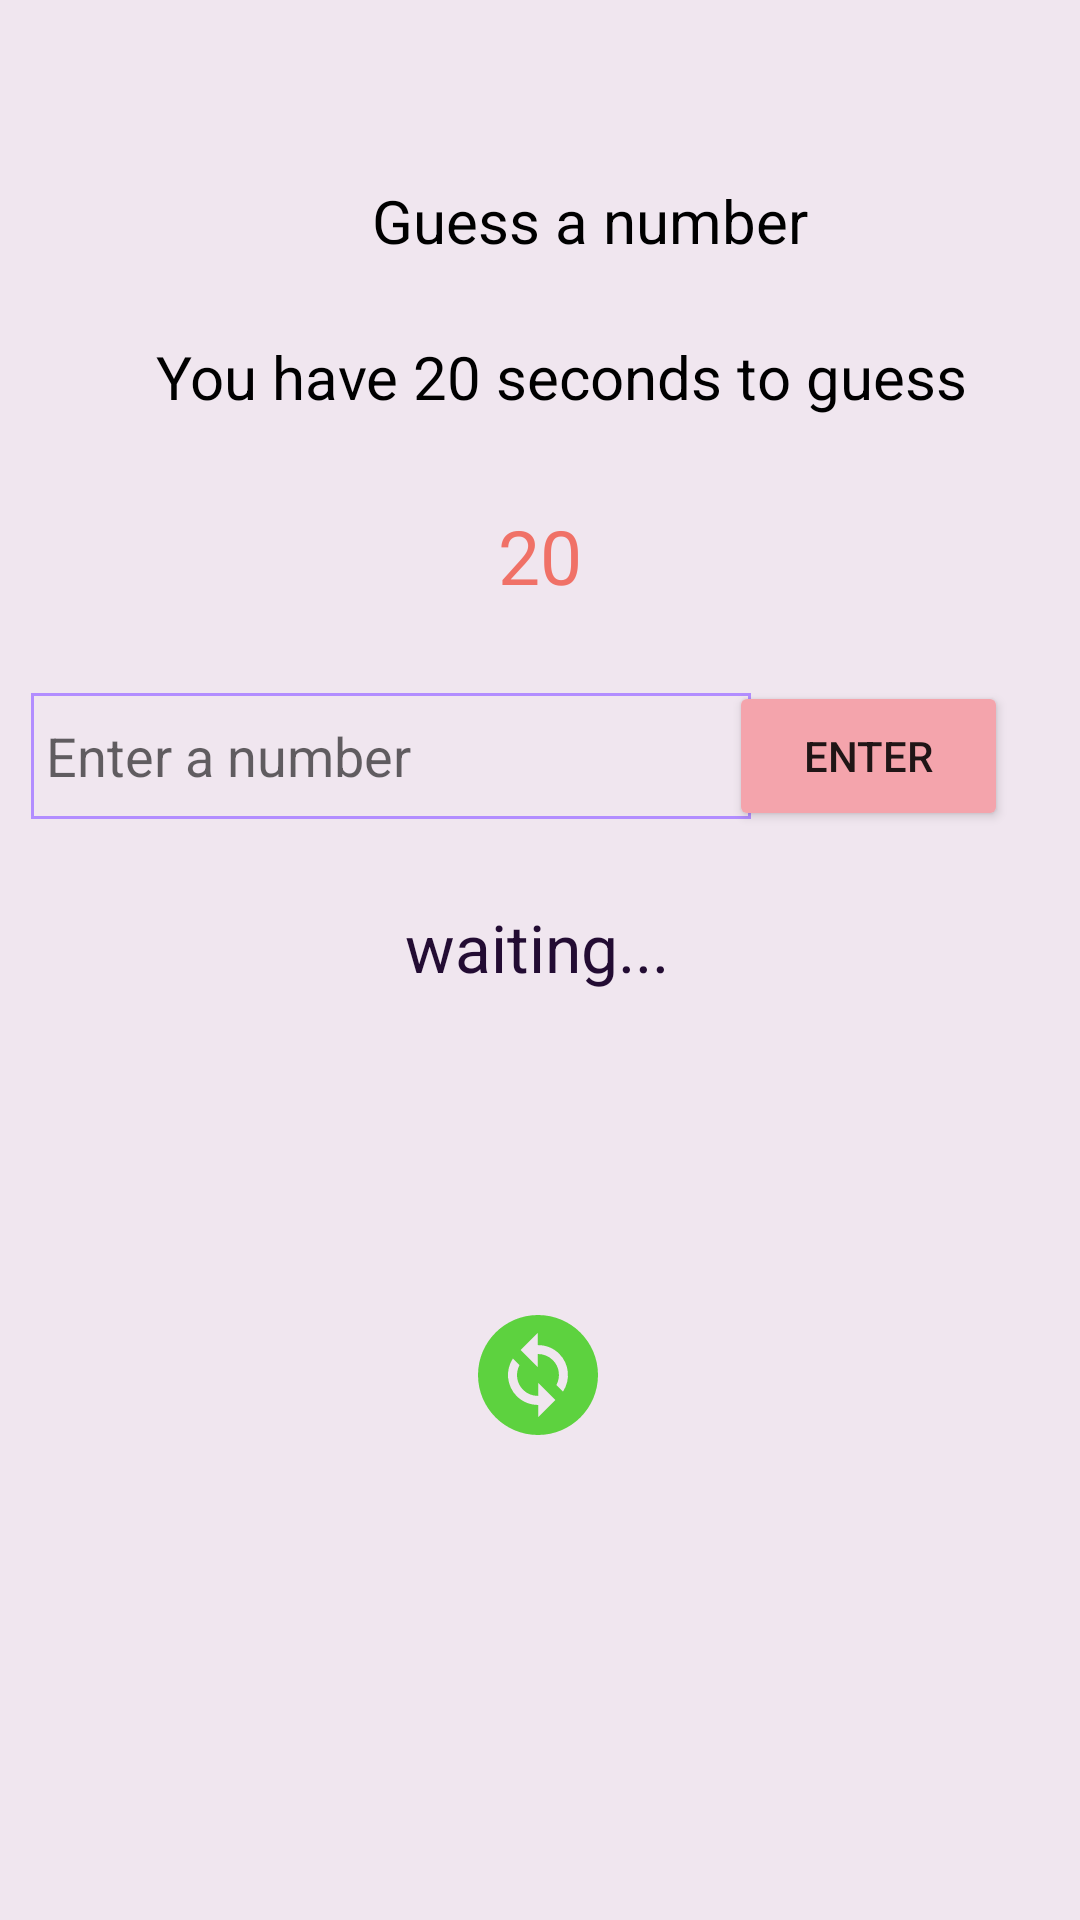

Screen size 1080px x 1920px. Icon name, then its box in pixels as bbox=[x1, y1, x2, y2]:
change circle: bbox=[478, 1315, 598, 1435]
